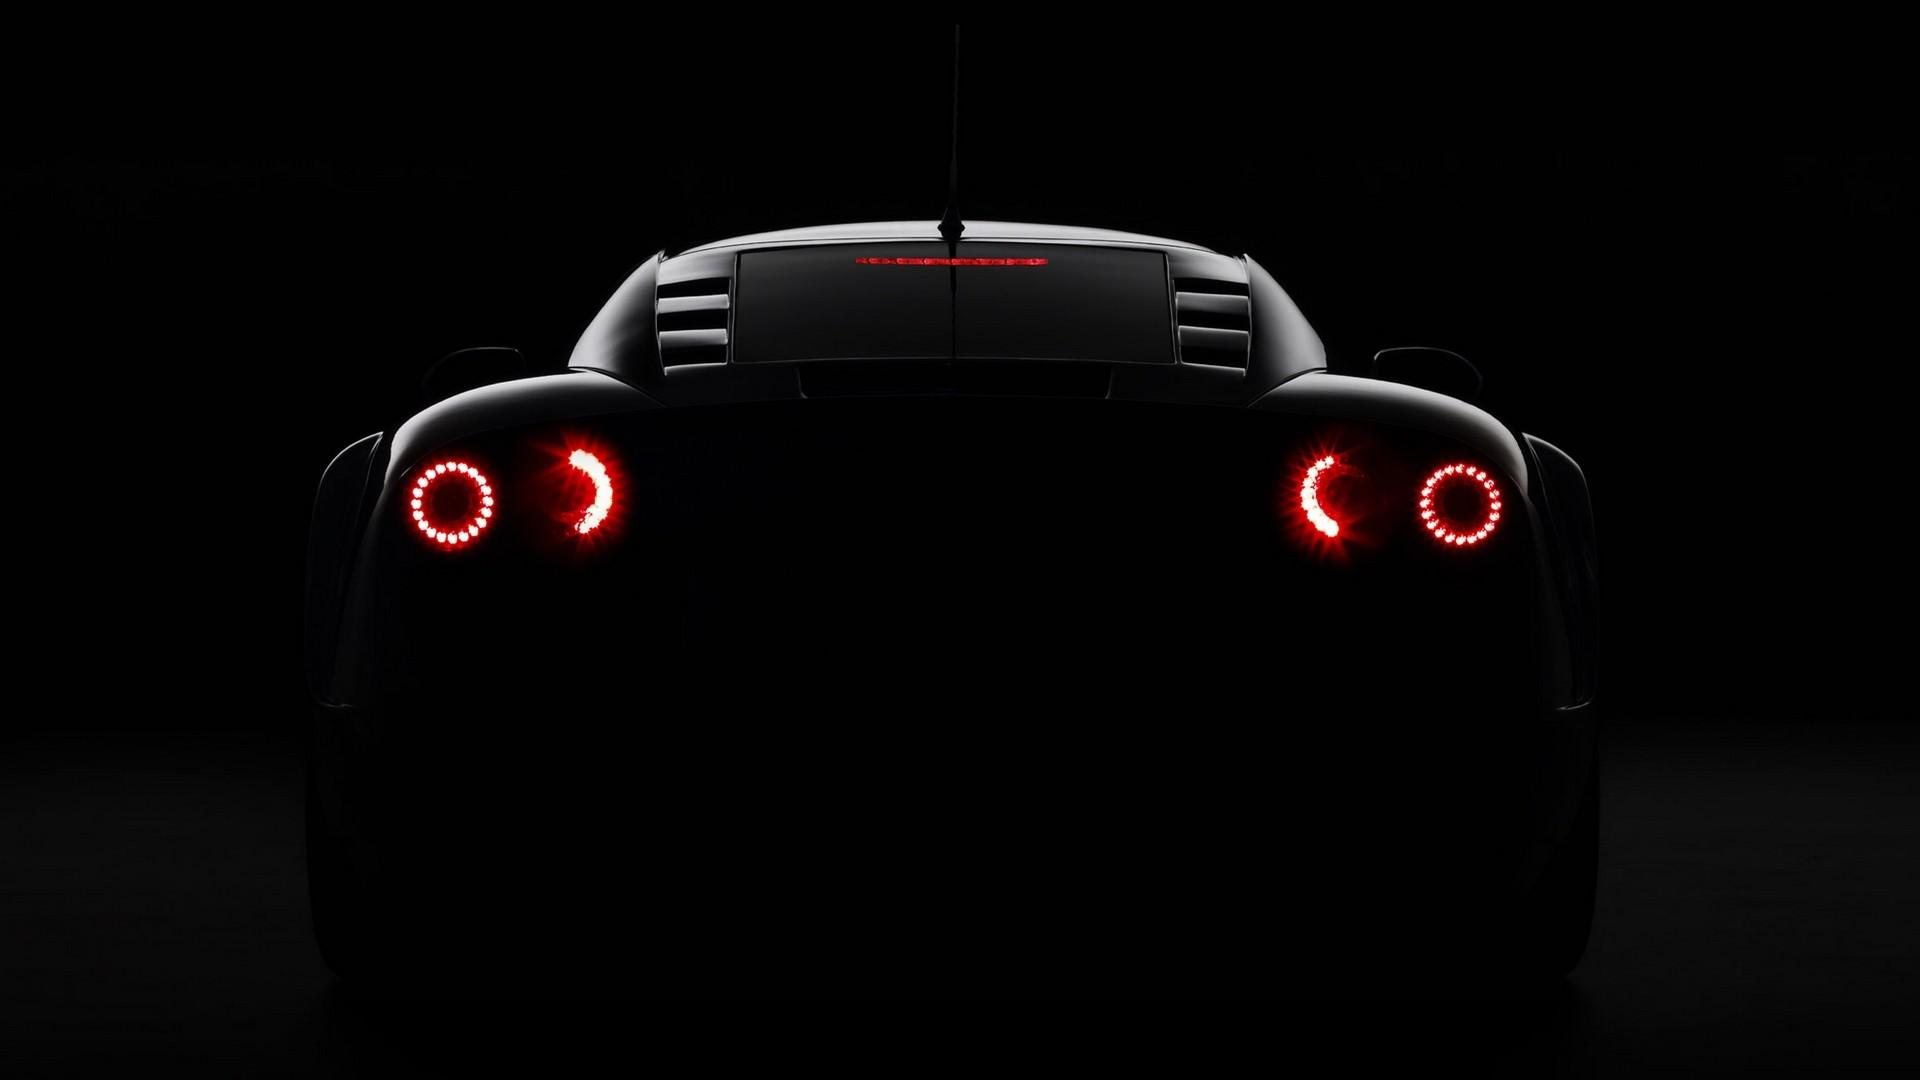Car: (297, 152, 1647, 898)
